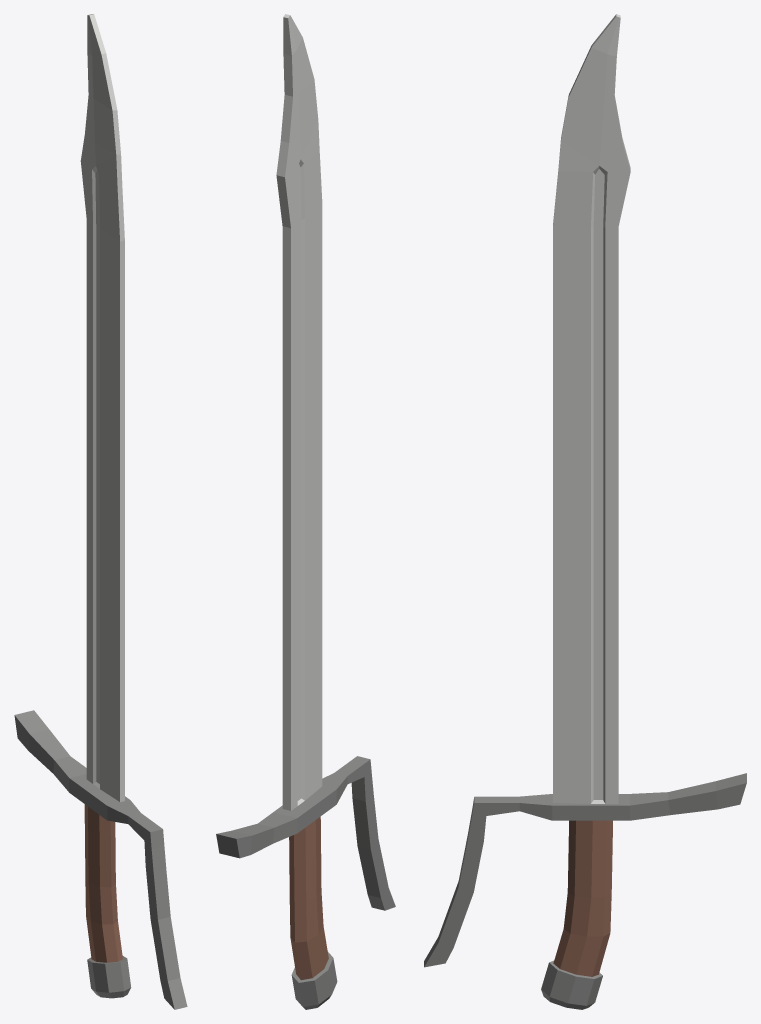
Rendered from Messer.glb.
The picture shows the model from 3 angles, left to right: view 1: azimuth 30°, elevation 25°; view 2: azimuth 150°, elevation 25°; view 3: azimuth 270°, elevation 25°; orthographic projection. The views are drawn at different scales.
Visible parts, largest first — view 1: Messer; view 2: Messer; view 3: Messer.
Part boxes in pixels (box(x1,y1,x2,y2)): Messer: box(14, 14, 187, 1009); Messer: box(216, 14, 395, 1009); Messer: box(424, 14, 746, 1009).
Bounding box in the file's own units: 0.0163 × 0.4993 × 0.1469.
